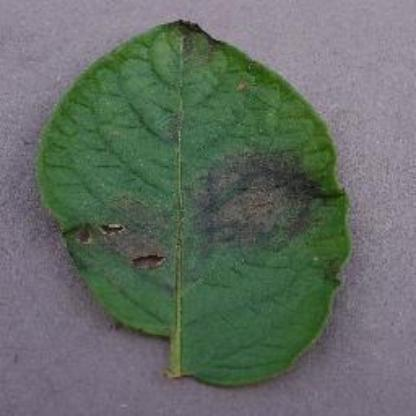Late-Blight: (31, 7, 370, 379)
